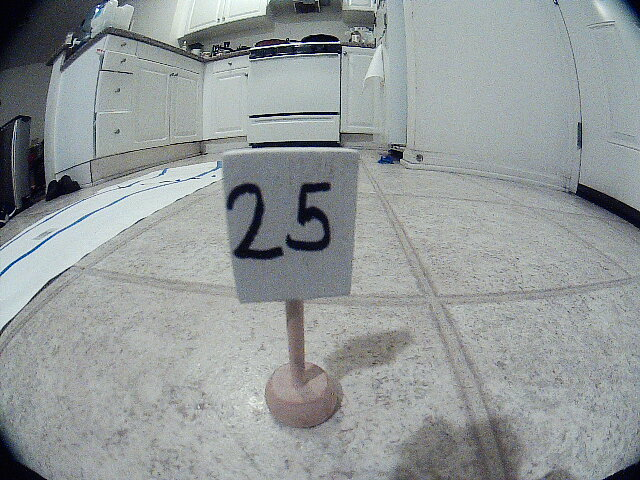Speed Limit 25: (204, 139, 399, 327)
